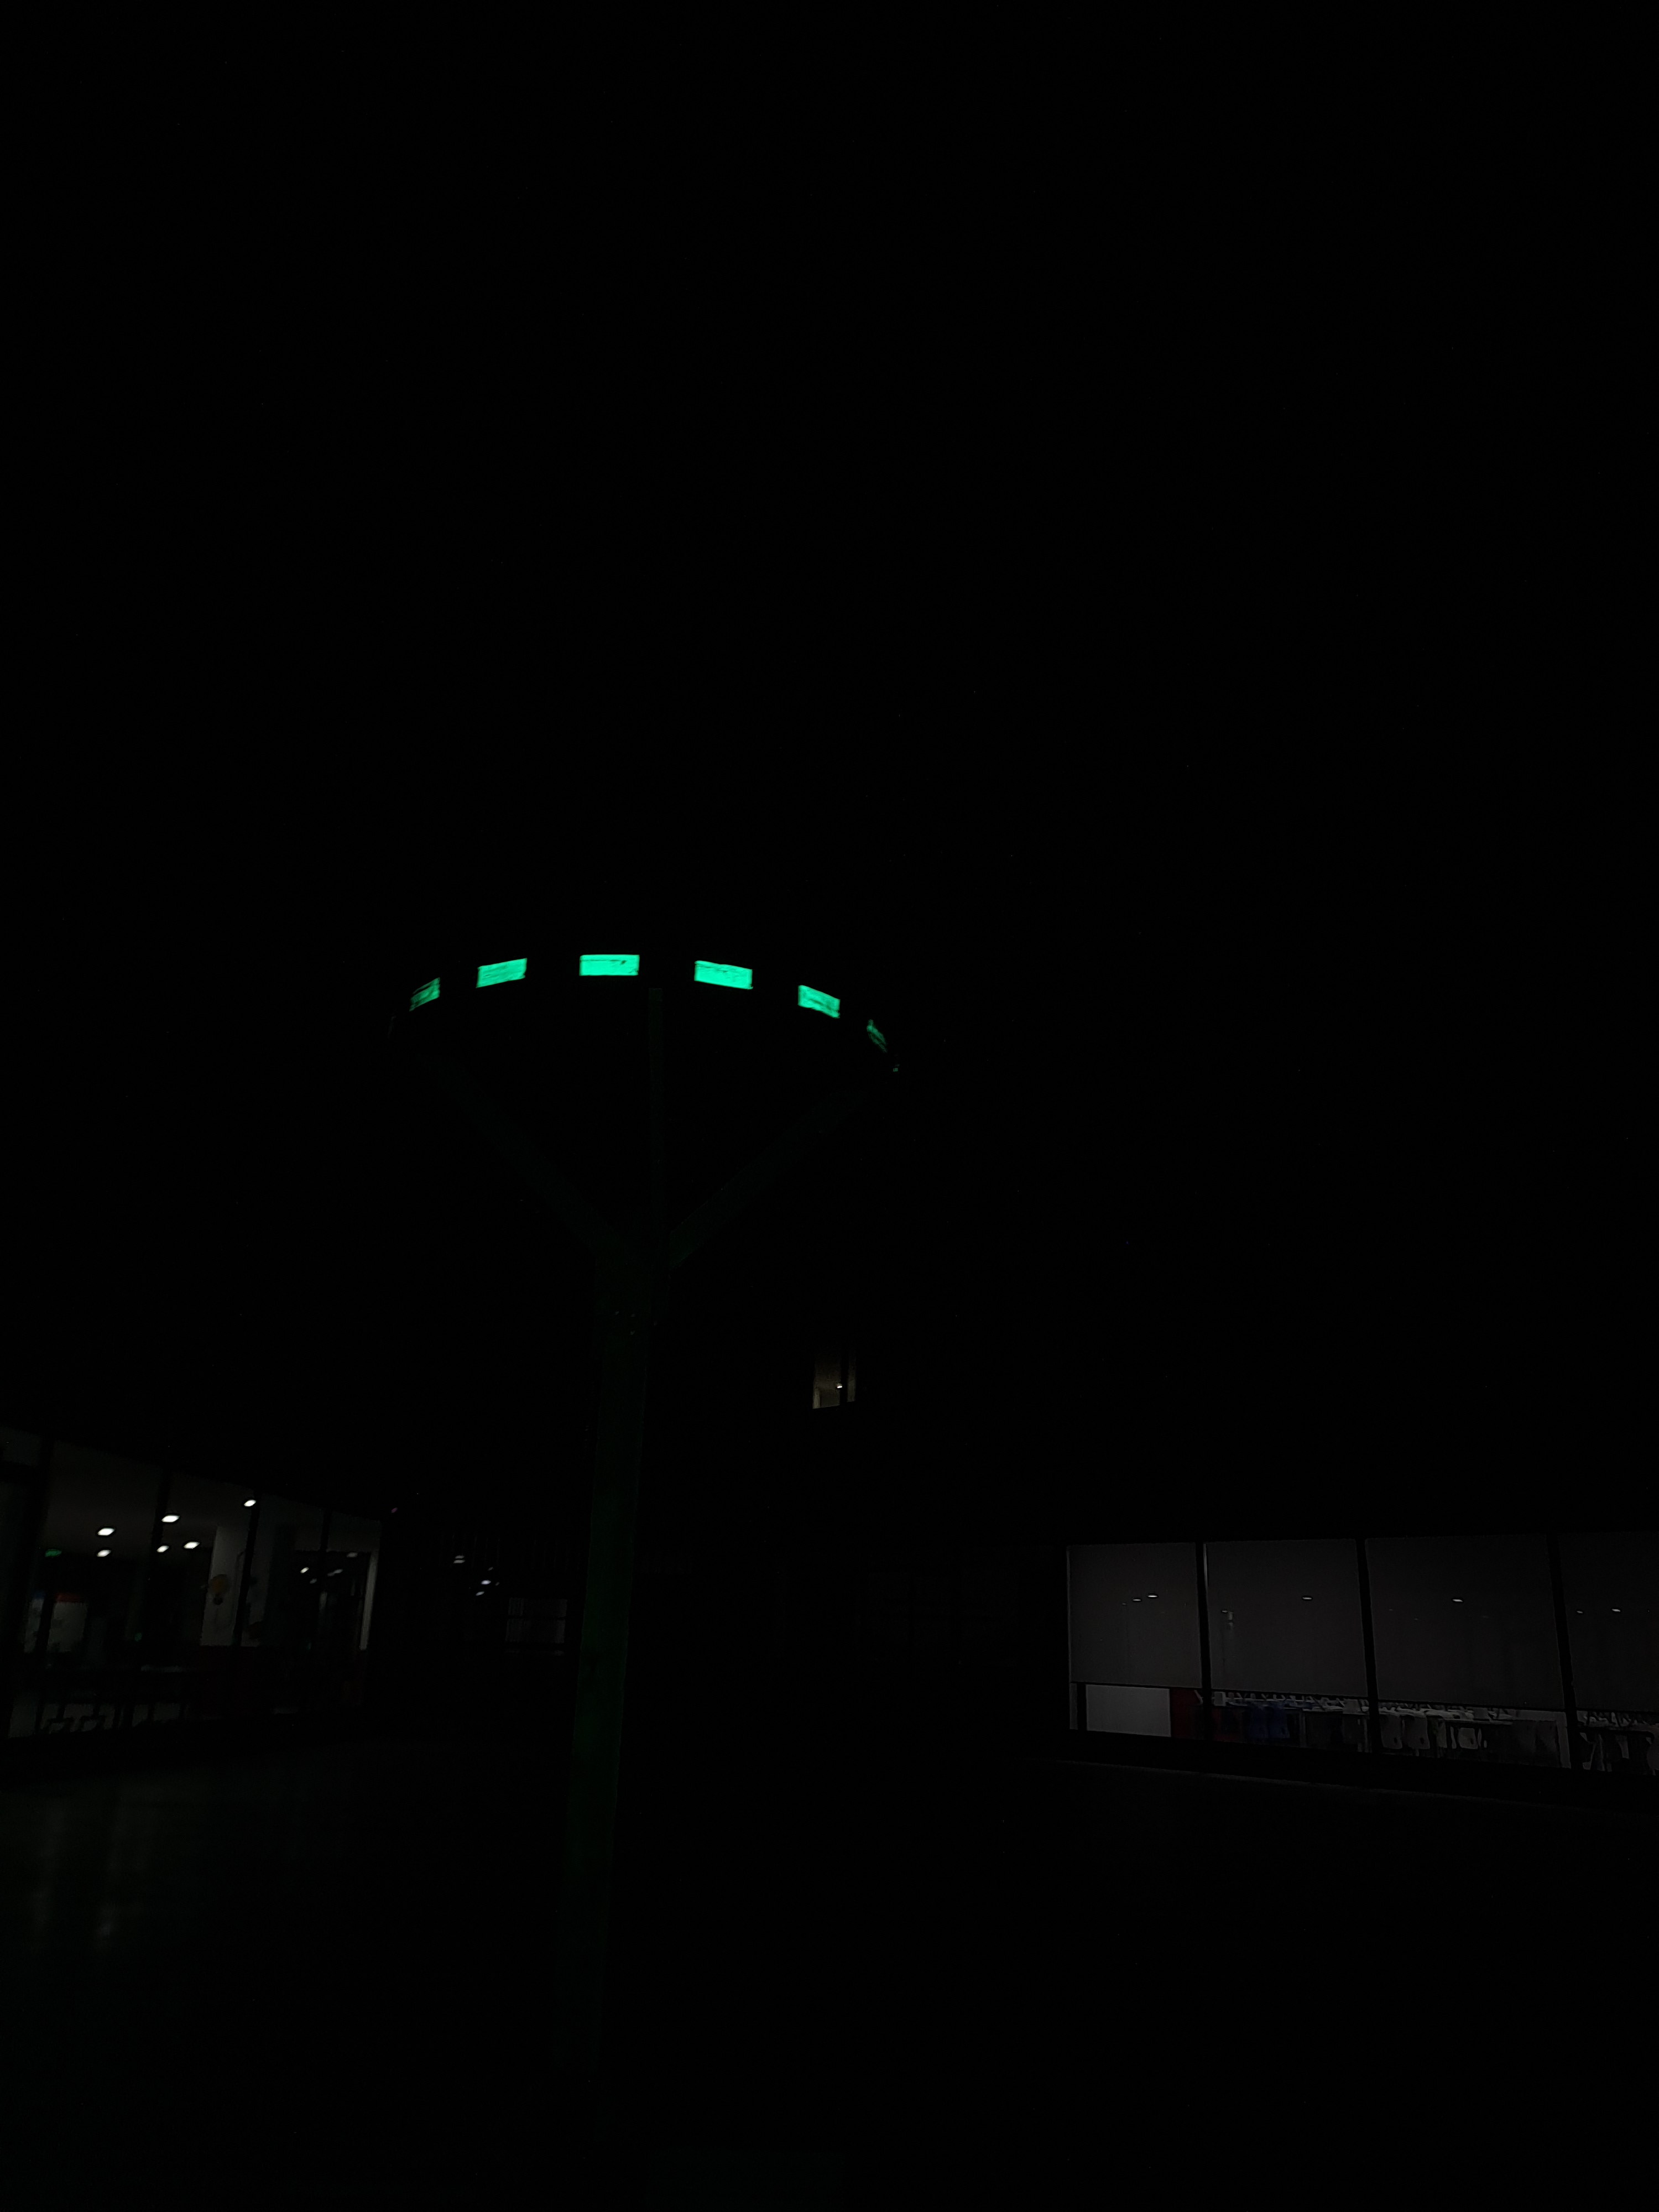hoop: (401, 937, 843, 1033)
